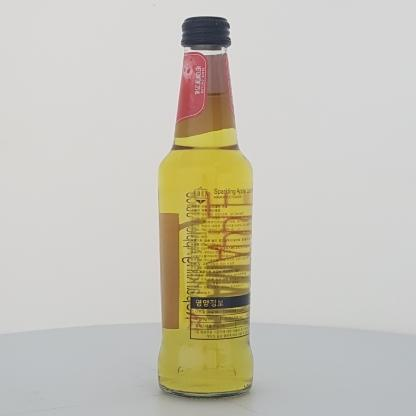----------------: (156, 17, 254, 400)
